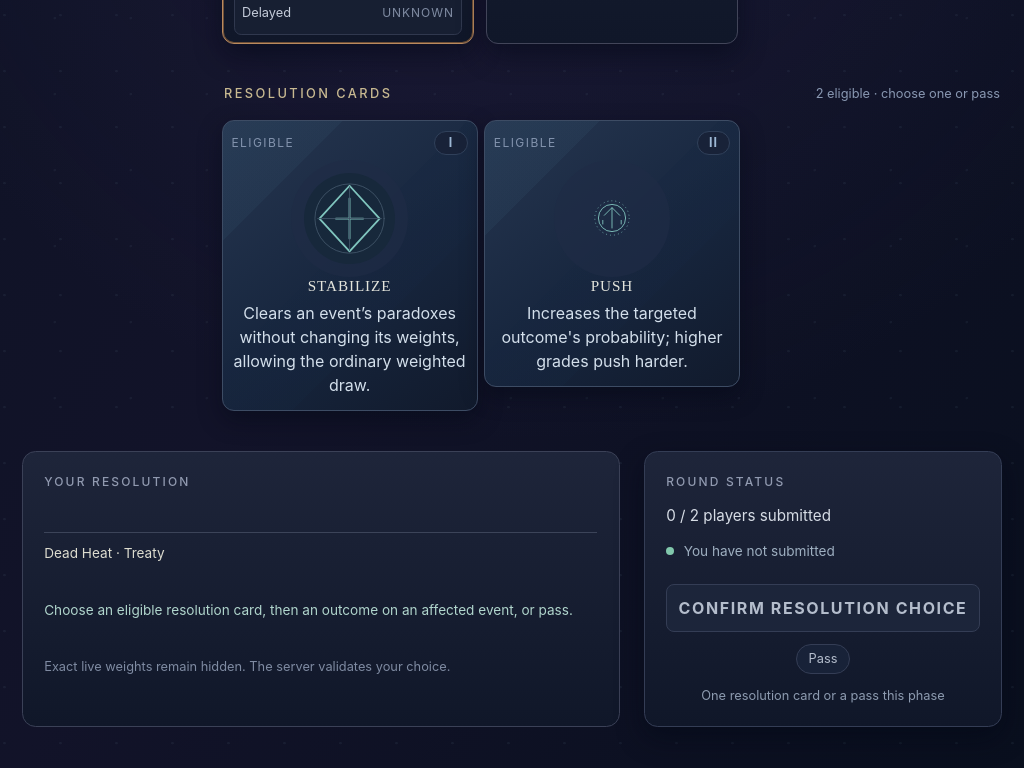
Scenario: resolving a paradox on the board › shows a pass rejected because the phase closed and refreshes the view
(page scrolled)
Click the button "Pass" at (823, 659), box [796, 644, 850, 674]
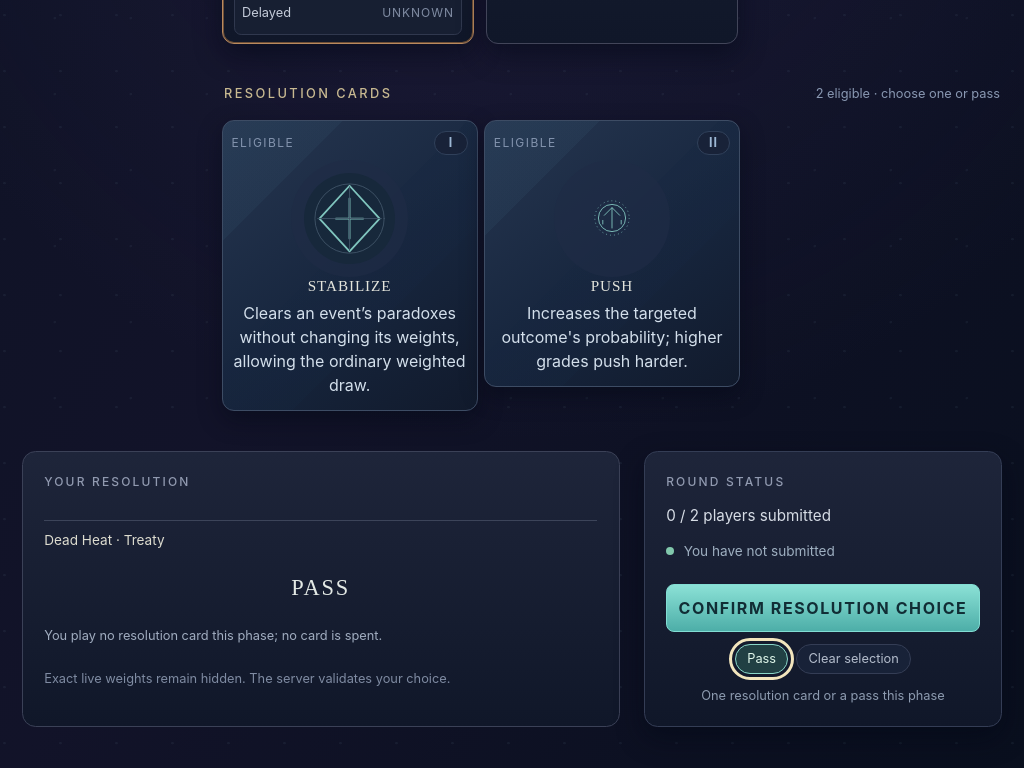
Click the button "Confirm resolution choice" at (823, 608), box [666, 584, 980, 632]
(page scrolled)
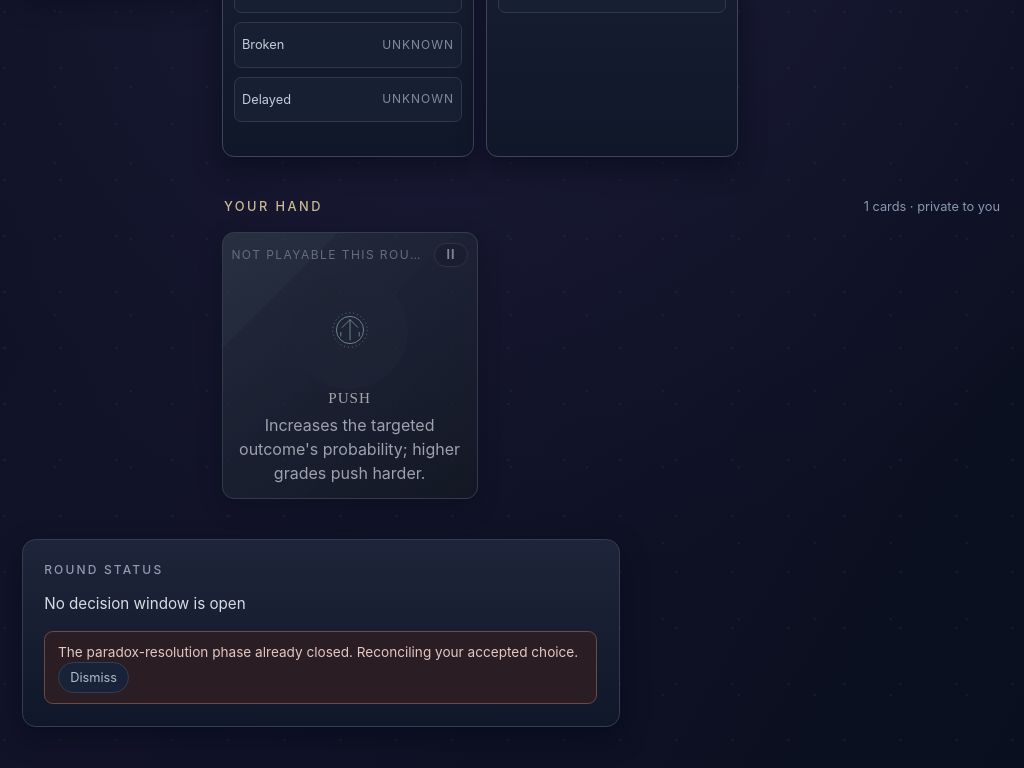
Now the message shows "phase already closed", box [58, 644, 578, 660]
